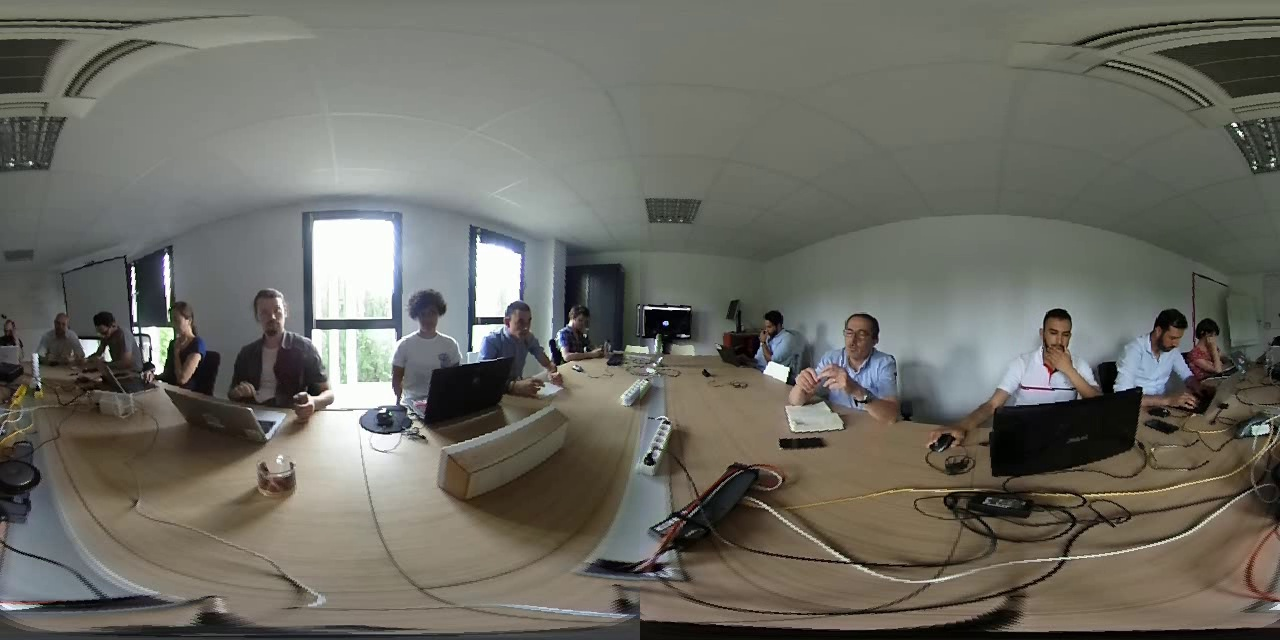person: (801, 293, 911, 427), (229, 282, 338, 415), (991, 297, 1097, 409), (385, 280, 462, 383), (1113, 291, 1186, 398), (479, 287, 547, 398), (152, 297, 217, 386), (80, 300, 144, 382), (1187, 299, 1244, 391), (553, 286, 613, 370), (744, 296, 798, 380), (32, 304, 82, 368), (1, 311, 23, 347)
